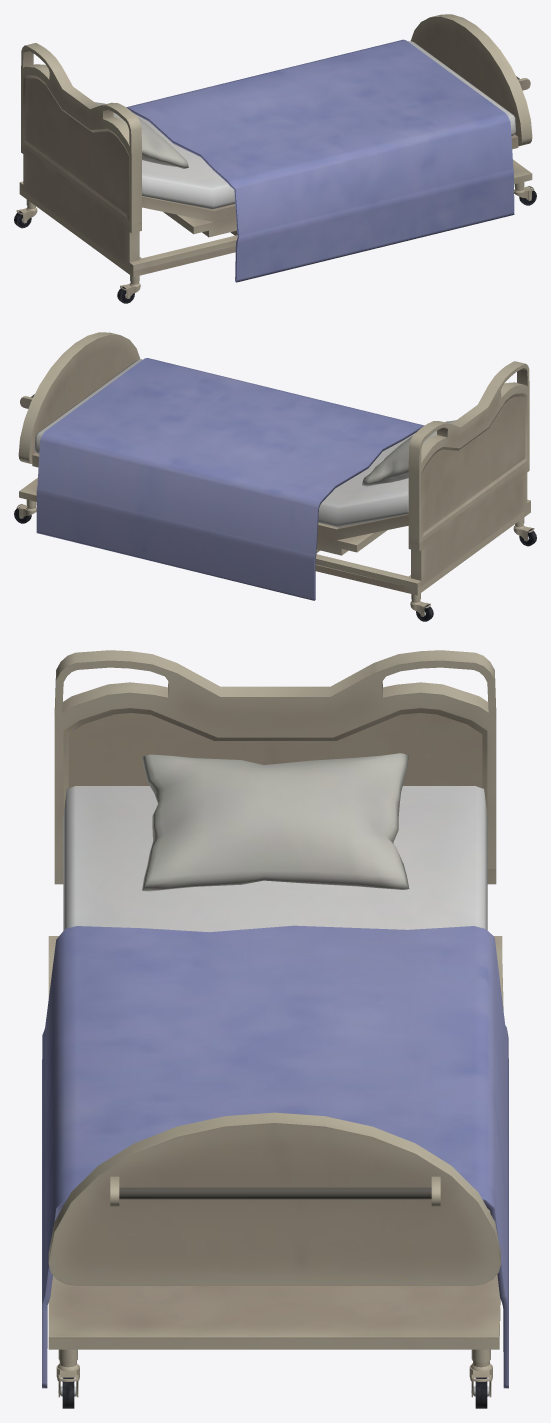
3 views of the same model, one above another, from view 1: azimuth 30°, elevation 25°; view 2: azimuth 150°, elevation 25°; view 3: azimuth 270°, elevation 25° (orthographic). The views are drawn at different scales.
Parts seen in each view (by area): view 1: Plane.002; view 2: Plane.002; view 3: Plane.002.
Boxes of the visible parts, x1,y1,x2,y2 form: Plane.002: (14,14,536,303); Plane.002: (14,332,536,621); Plane.002: (42,650,508,1408).
Bounding box in the file's own units: 378 × 157 × 181.
Materials: 1 (1 with a texture image).
